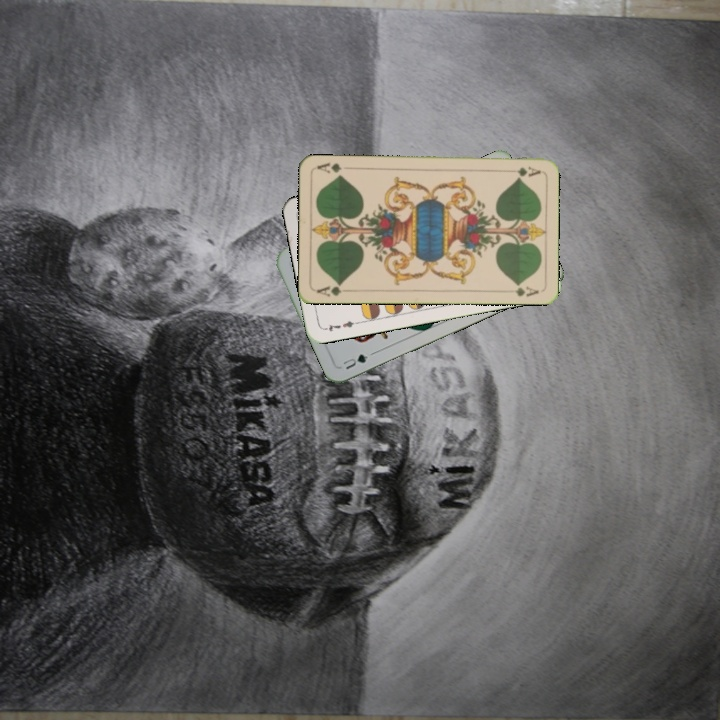E7: (320, 317, 360, 334)
GA: (313, 279, 353, 299), (502, 162, 543, 179)
GU: (339, 350, 371, 372)
